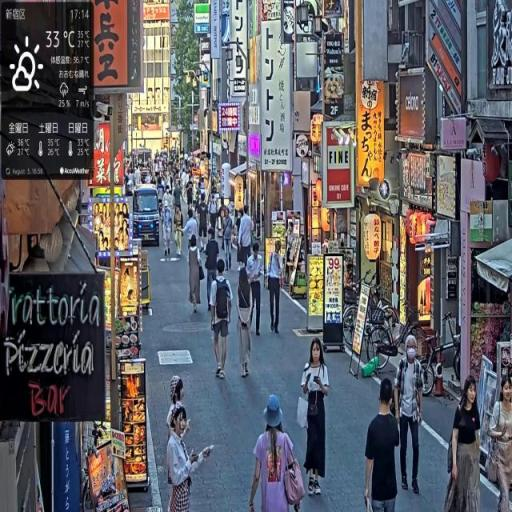person: (248, 394, 307, 512), (393, 334, 428, 503), (166, 403, 215, 512), (445, 374, 483, 512), (364, 378, 401, 512), (300, 339, 331, 496), (486, 376, 512, 512), (209, 253, 235, 382), (236, 263, 256, 380), (266, 240, 286, 336), (247, 243, 266, 337), (204, 229, 221, 319), (187, 230, 204, 316), (238, 207, 255, 273), (221, 206, 236, 273), (174, 201, 185, 260)
